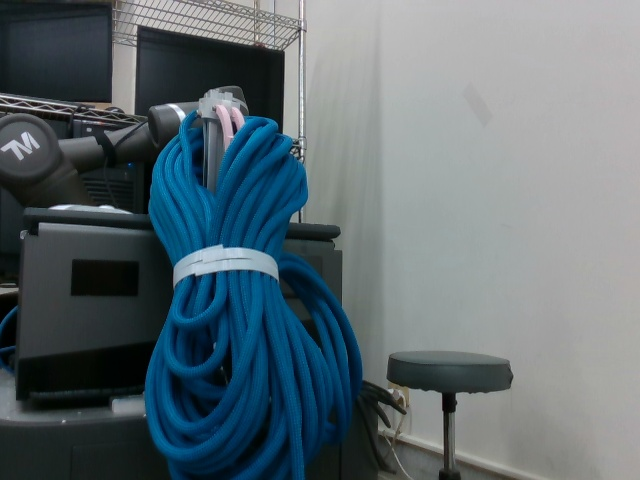rope: (145, 103, 370, 480)
